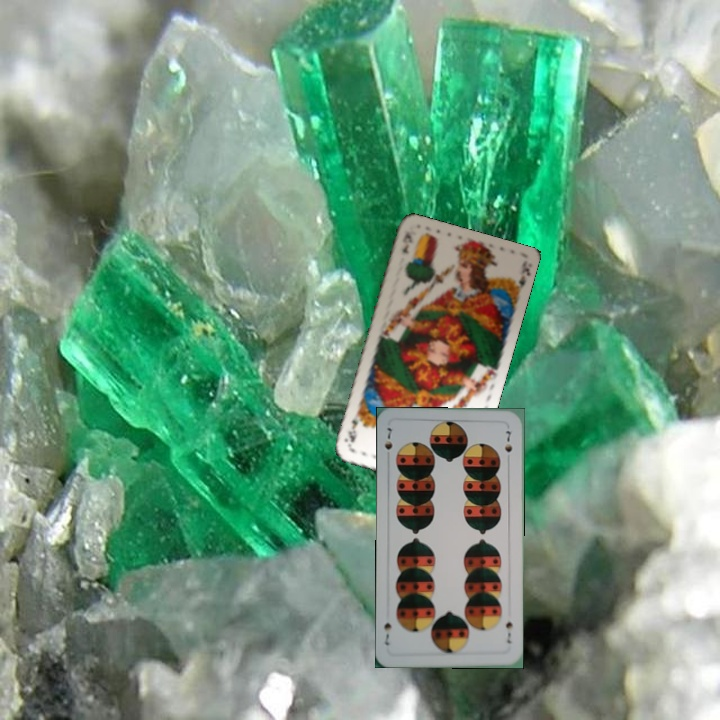EK: (399, 228, 415, 255)
S7: (381, 423, 395, 463), (502, 618, 515, 646)
